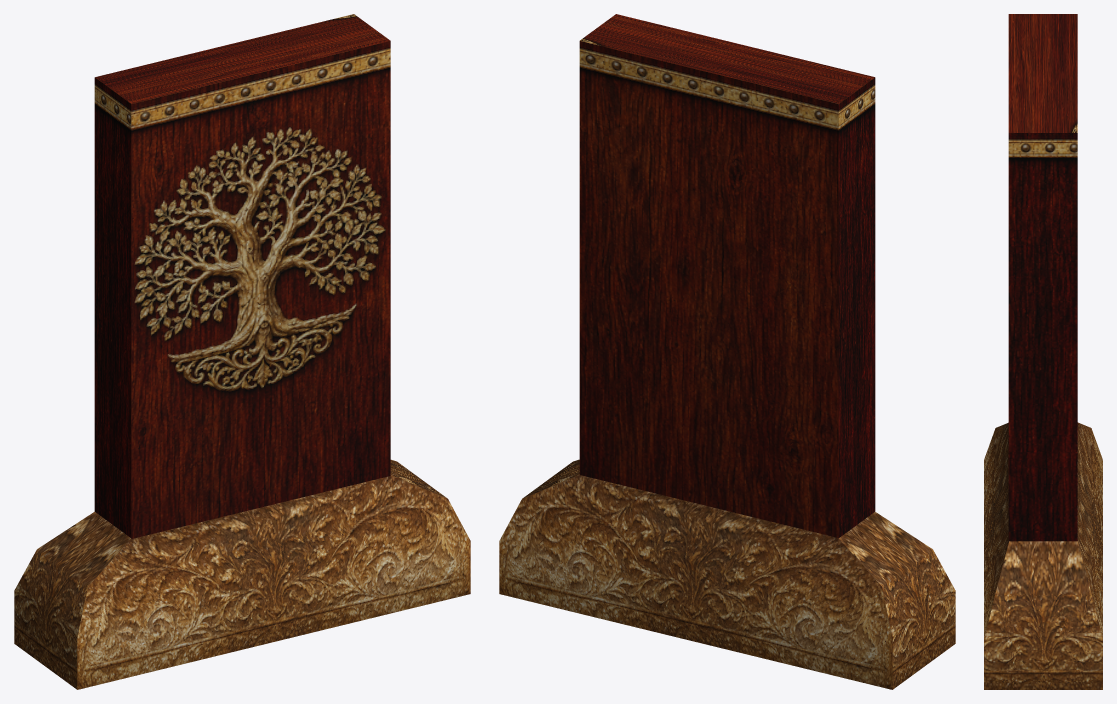
Rendered from mm9_deco_treeoflife.glb.
The picture shows the model from 3 angles, left to right: view 1: azimuth 30°, elevation 25°; view 2: azimuth 150°, elevation 25°; view 3: azimuth 270°, elevation 25°; orthographic projection. The views are drawn at different scales.
Visible parts, largest first — view 1: Treeoflife; view 2: Treeoflife; view 3: Treeoflife.
Part boxes in pixels (x1=…): Treeoflife: x1=14, y1=14, x2=470, y2=689; Treeoflife: x1=499, y1=14, x2=955, y2=689; Treeoflife: x1=984, y1=14, x2=1102, y2=689.
Bounding box in the file's own units: 0.5536 × 0.7528 × 0.1542.
Materials: 1 (1 with a texture image).
